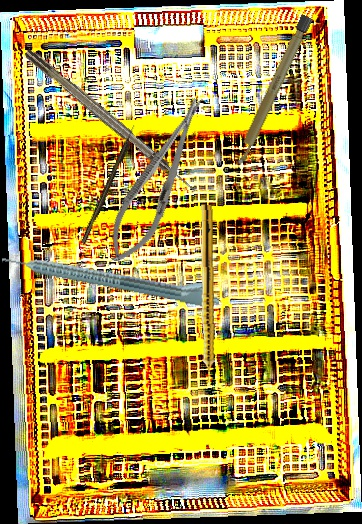Handpiece: (0, 242, 223, 310), (197, 204, 216, 387)
Hook Surgical: (23, 46, 199, 197), (80, 124, 138, 245)
Needle Holder: (96, 90, 219, 272)
Scalpel Handle: (232, 13, 313, 168)
